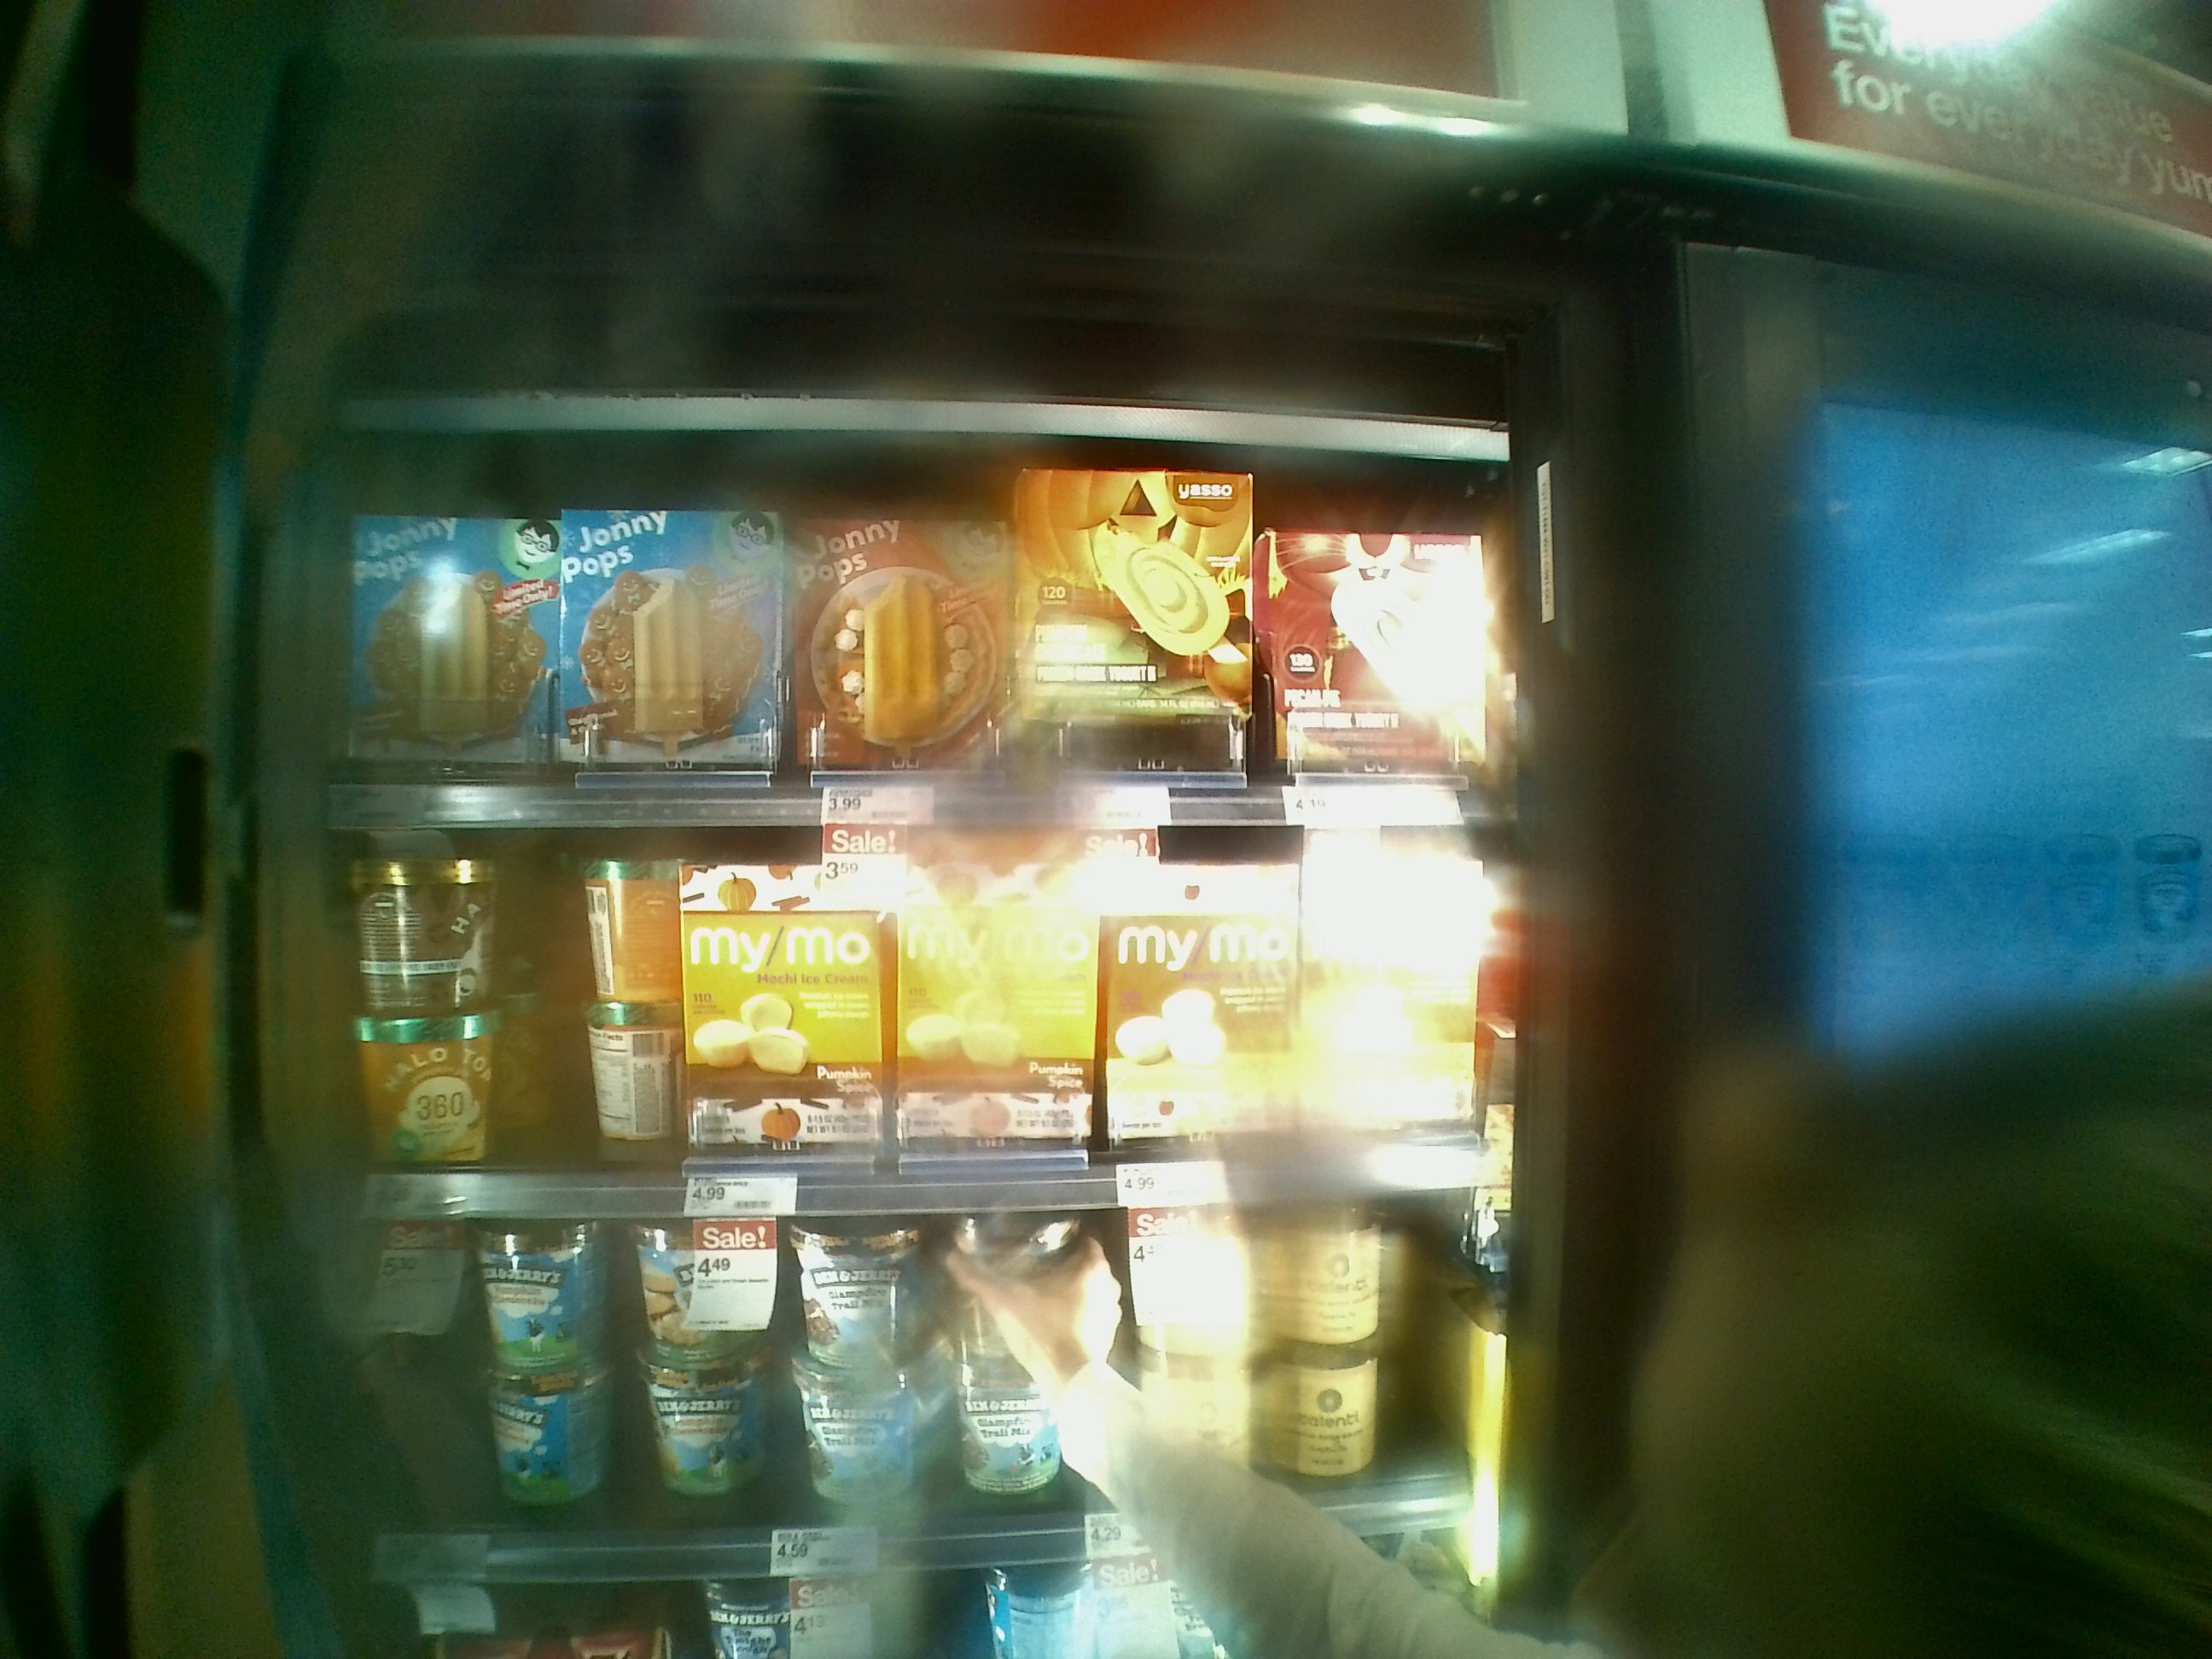shelf: (317, 394, 1514, 835), (308, 793, 1508, 1192)
